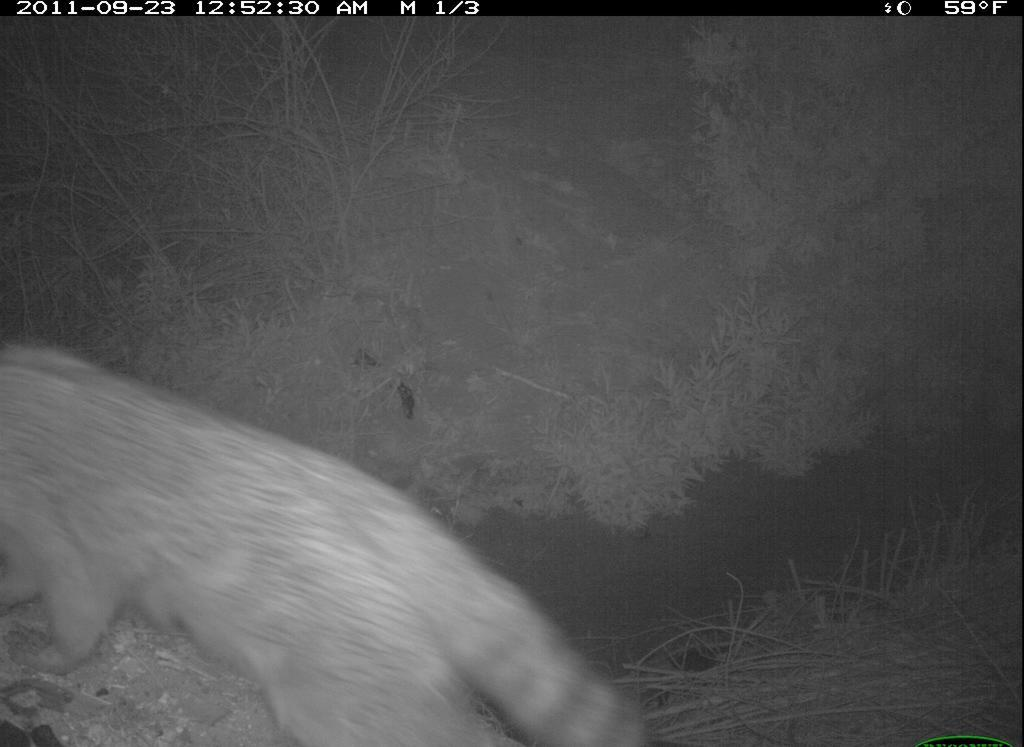raccoon: (1, 326, 660, 740)
